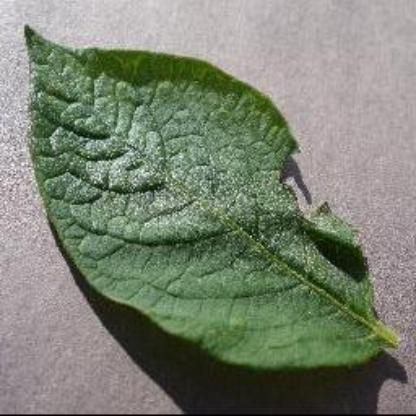Healthy-plant: (22, 16, 404, 398)
